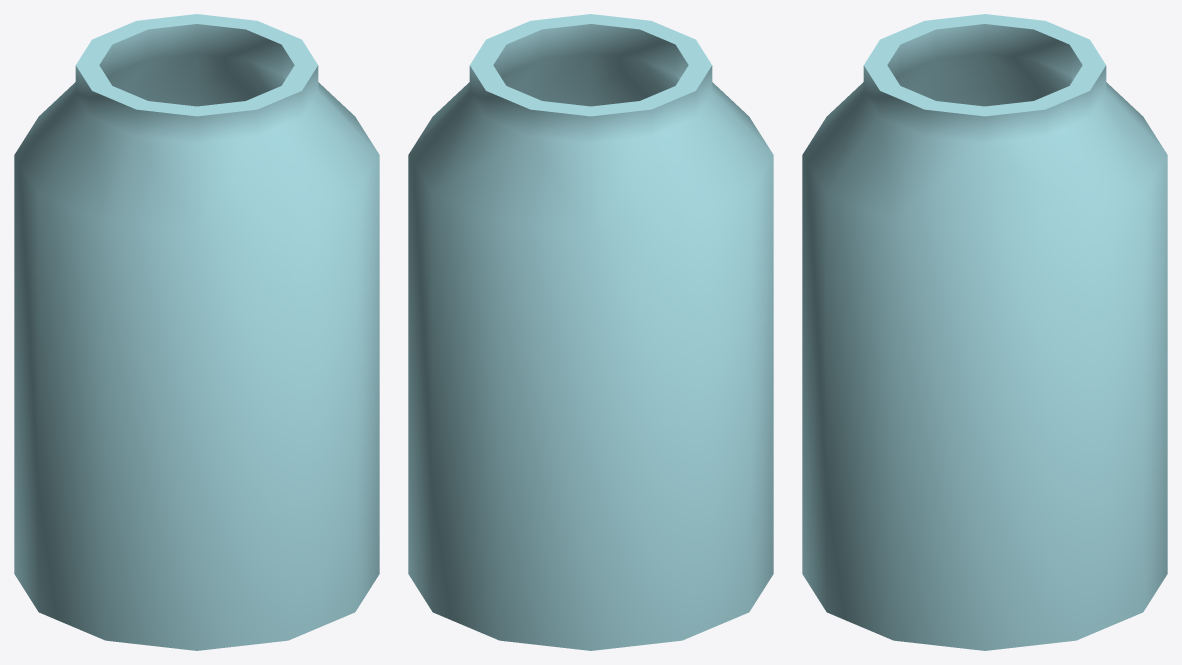
The model's file is JarFilled1.fbx.
The picture shows the model from 3 angles, left to right: view 1: azimuth 30°, elevation 25°; view 2: azimuth 150°, elevation 25°; view 3: azimuth 270°, elevation 25°; orthographic projection.
Parts seen in each view (by area): view 1: JarFilled1; view 2: JarFilled1; view 3: JarFilled1.
Part boxes in pixels (x1,y1,x2,y2): JarFilled1: (14,14,379,650); JarFilled1: (408,14,773,650); JarFilled1: (802,14,1167,650).
Size of the model in its own units: 10.56 by 16.2 by 10.56.
